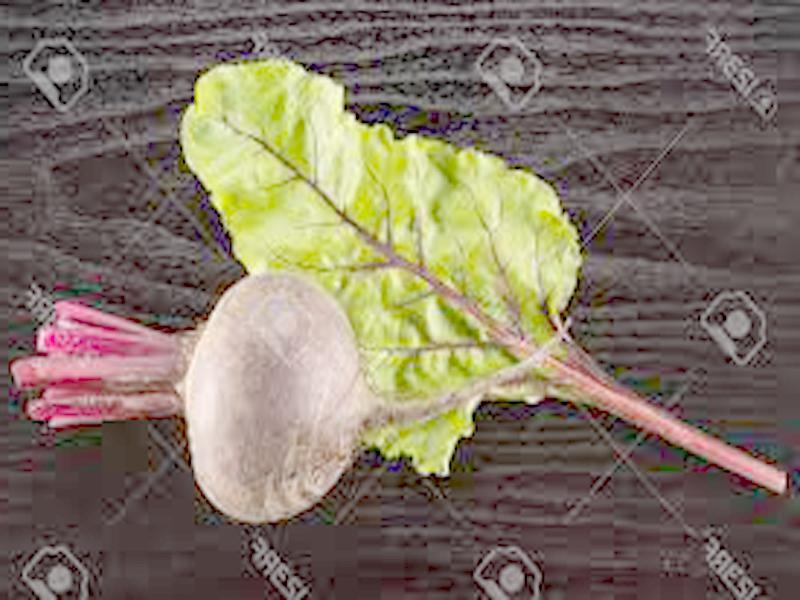Beet: (11, 272, 569, 521)
